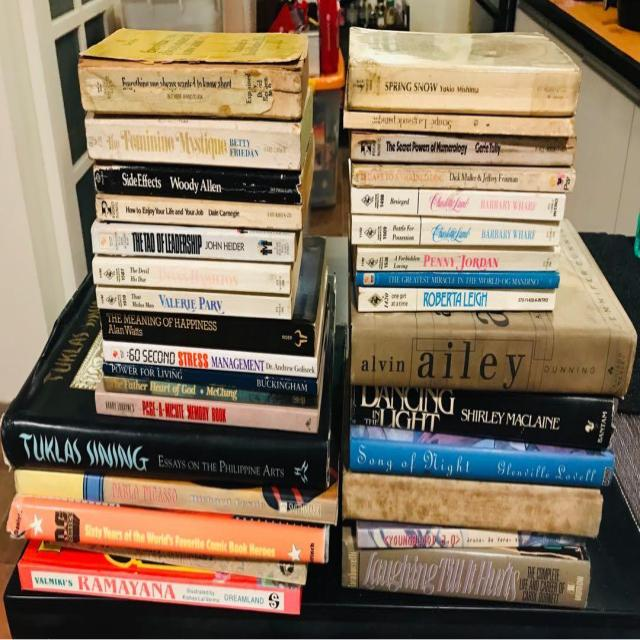book: (1, 422, 329, 490), (351, 323, 637, 395), (11, 507, 329, 564), (342, 469, 603, 536), (13, 473, 336, 526), (352, 387, 612, 450), (342, 544, 589, 609), (18, 564, 300, 616), (349, 436, 615, 486), (349, 58, 581, 113), (79, 66, 304, 119), (85, 121, 302, 169), (94, 390, 319, 433), (101, 315, 315, 358), (92, 165, 302, 206), (351, 132, 574, 167), (350, 187, 566, 222), (103, 346, 318, 380), (93, 259, 290, 295), (92, 228, 294, 263), (351, 162, 575, 193), (102, 366, 317, 395), (103, 380, 317, 409), (96, 199, 302, 229), (350, 217, 560, 246), (344, 111, 575, 136), (95, 291, 292, 320), (355, 246, 560, 271), (358, 287, 556, 312), (358, 528, 585, 549), (356, 271, 559, 288)
